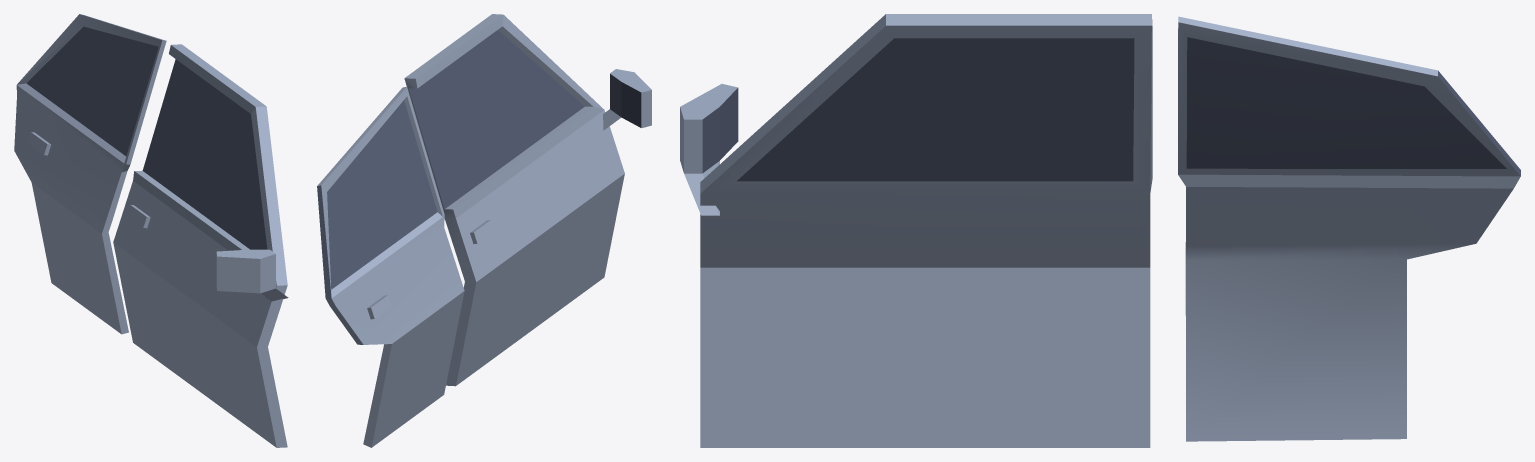
File: Door_Middle.fbx
3 views of the same model, side by side, from view 1: azimuth 30°, elevation 25°; view 2: azimuth 150°, elevation 25°; view 3: azimuth 270°, elevation 25° (orthographic). The views are drawn at different scales.
Visible parts, largest first — view 1: Door1_Middle, Door2_Middle; view 2: Door1_Middle, Door2_Middle; view 3: Door1_Middle, Door2_Middle.
Boxes of the visible parts, x1=… form: Door1_Middle: x1=113, y1=44, x2=288, y2=447; Door2_Middle: x1=14, y1=14, x2=166, y2=334; Door1_Middle: x1=404, y1=14, x2=651, y2=386; Door2_Middle: x1=317, y1=87, x2=464, y2=447; Door1_Middle: x1=680, y1=14, x2=1152, y2=447; Door2_Middle: x1=1178, y1=16, x2=1520, y2=441.
Bounding box in the file's own units: 0.5933 × 1.61 × 2.7.
